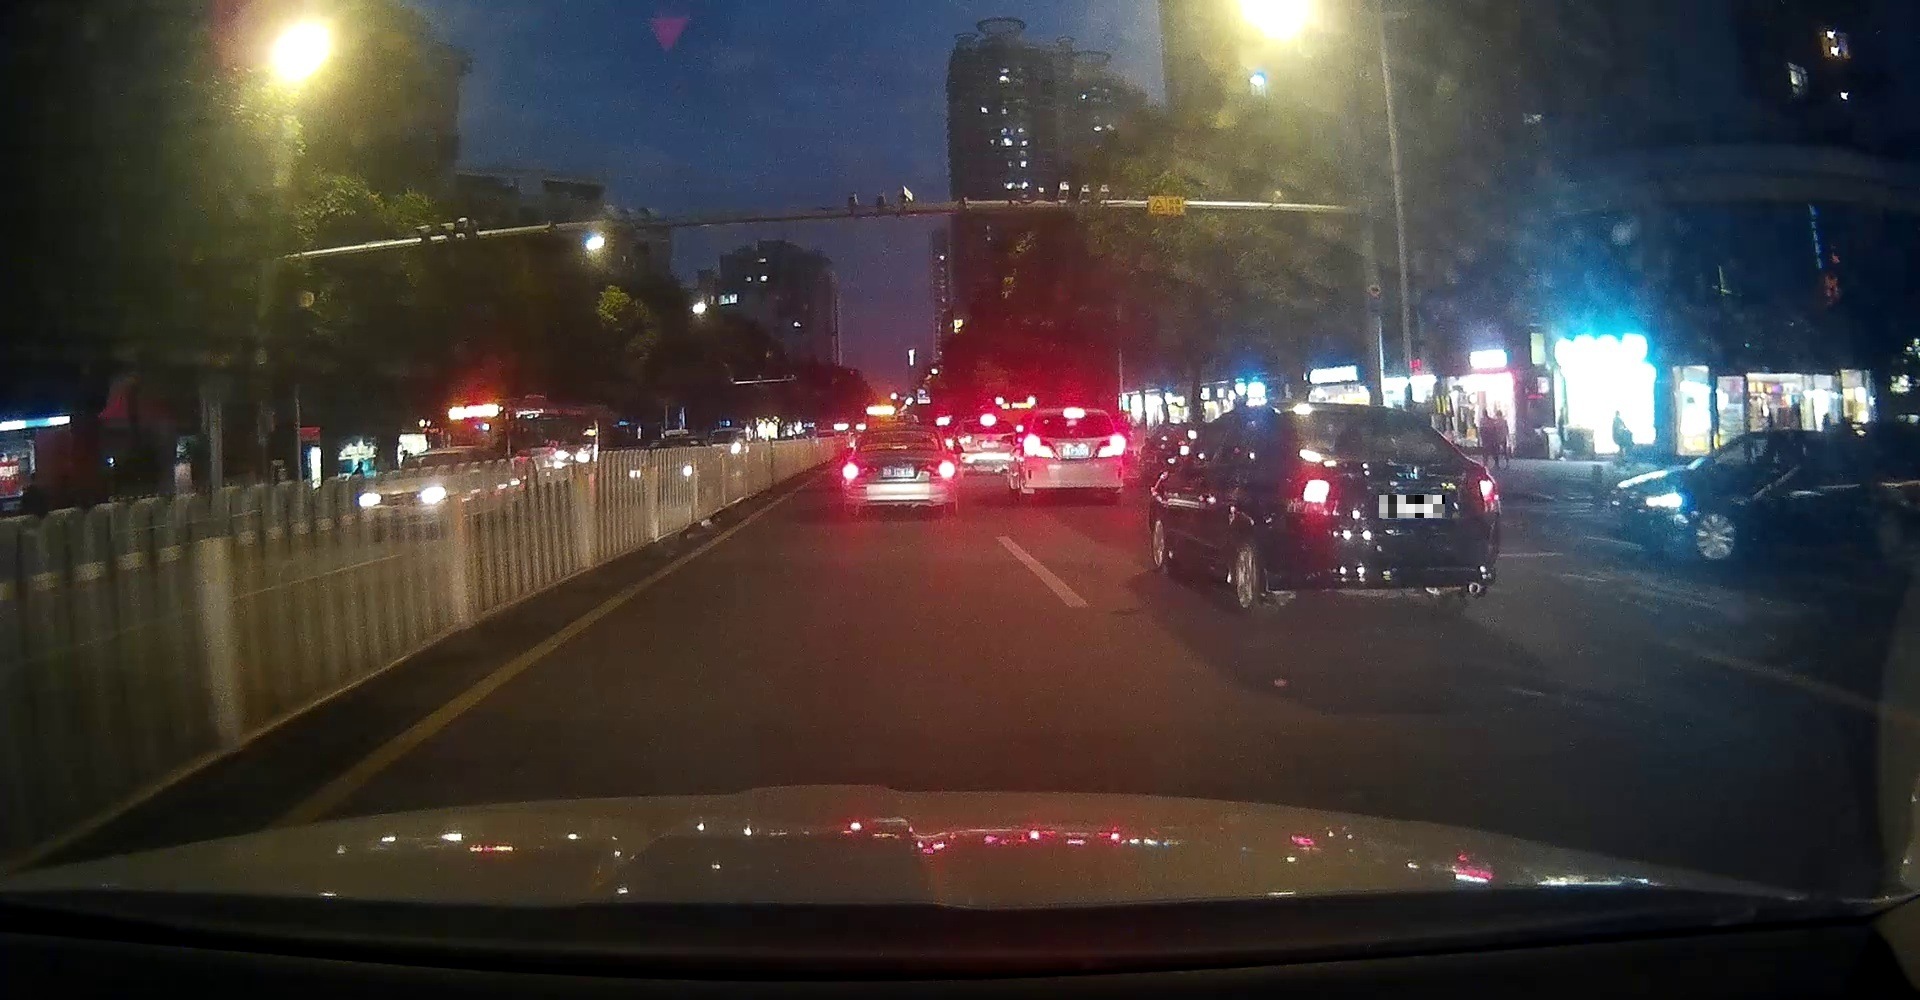L_light: (1300, 478, 1331, 505), (1023, 434, 1053, 458), (841, 462, 858, 482)
R_light: (1096, 433, 1125, 457), (1477, 478, 1497, 503), (938, 461, 956, 478)
T_light: (1062, 407, 1084, 418), (1356, 412, 1383, 418), (889, 431, 905, 433)
night-brake: (1021, 407, 1126, 505)
night-no: (1277, 404, 1500, 621), (841, 425, 957, 516)
plate_1: (1379, 495, 1445, 518)
